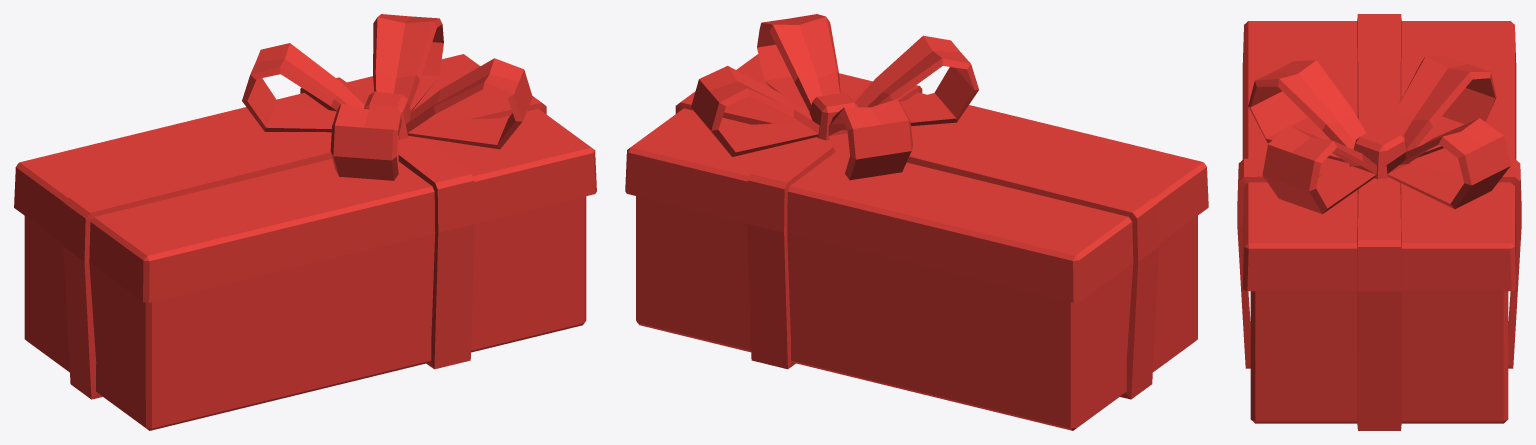
Rendered from SM_Gift_Christmas_Long_B.fbx.
The picture shows the model from 3 angles, left to right: view 1: azimuth 30°, elevation 25°; view 2: azimuth 150°, elevation 25°; view 3: azimuth 270°, elevation 25°; orthographic projection. The views are drawn at different scales.
Visible parts, largest first — view 1: gift-christmas-long-b; view 2: gift-christmas-long-b; view 3: gift-christmas-long-b.
Boxes of the visible parts, x1=… form: gift-christmas-long-b: x1=14, y1=14, x2=596, y2=430; gift-christmas-long-b: x1=625, y1=14, x2=1208, y2=430; gift-christmas-long-b: x1=1237, y1=14, x2=1521, y2=430.
Bounding box in the file's own units: 0.6387 × 0.3385 × 0.3314.
